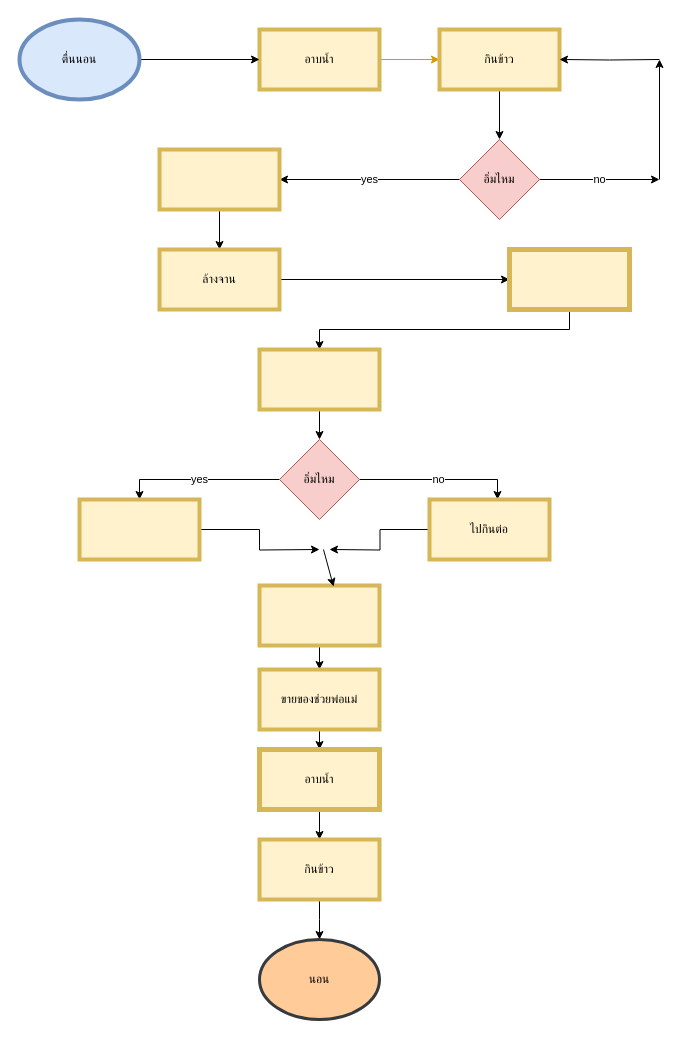
Some shapes in this 685 by 1038 pixel diagram are drawn without their labels. The shapes that lost their labels are listed below. From the top down, each one's centre as x and y in pixels, then its label:
At point 219,179: "ดื่มน้ำ".
At point 569,279: "ทำการบ้าน".
At point 319,379: "กินข้าวเที่ยง".
At point 139,529: "ไปพักผ่อน".
At point 319,615: "นอนกลางวัน".
